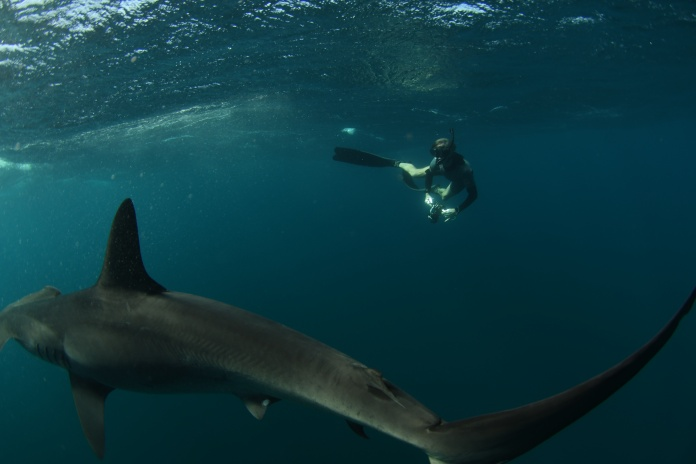Hammer: (1, 188, 692, 463)
